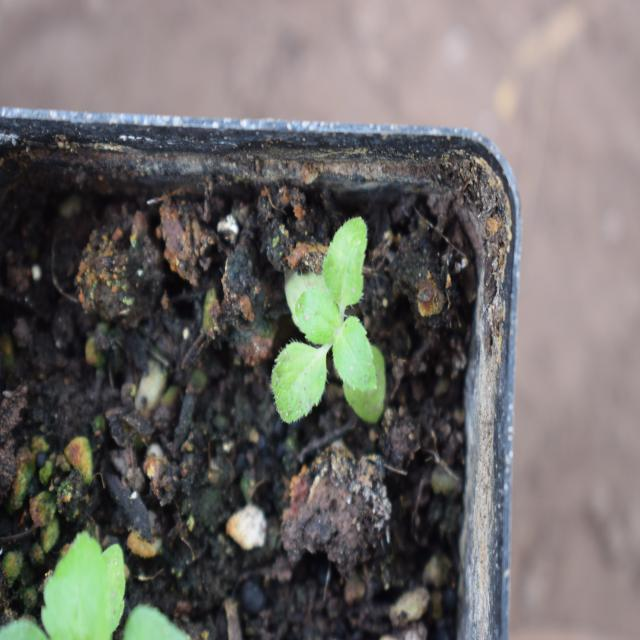billygoat_weed: (261, 198, 401, 445)
